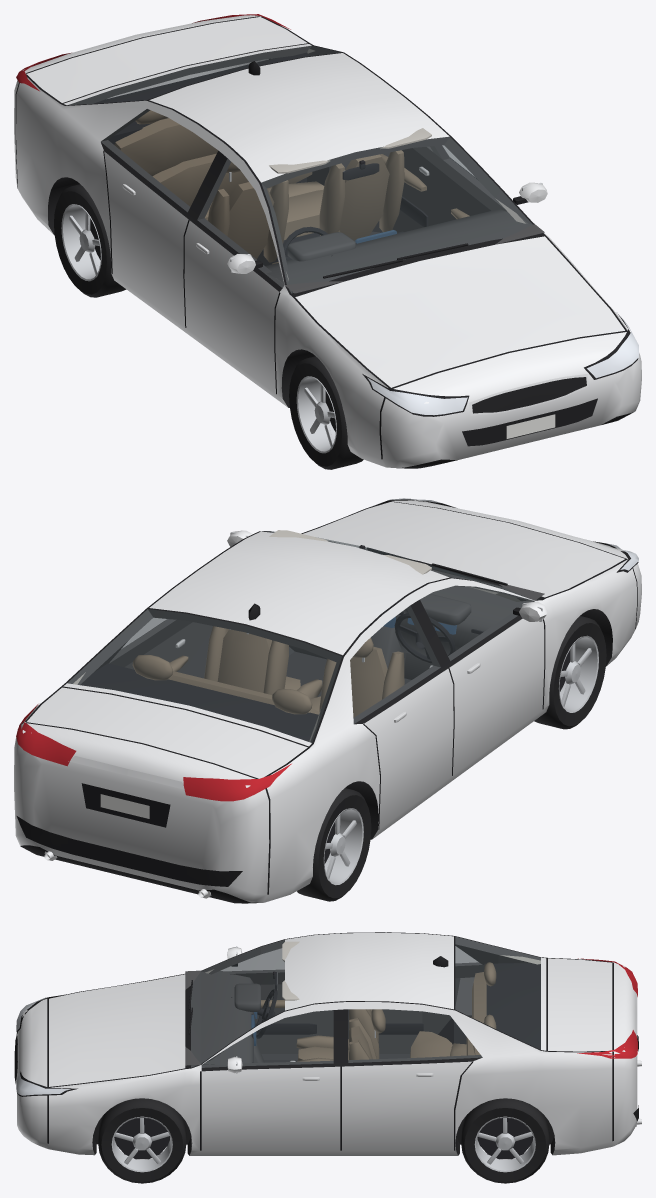
Rendered from Sedan.fbx.
3 renders of one model, top to bottom at view 1: azimuth 30°, elevation 25°; view 2: azimuth 150°, elevation 25°; view 3: azimuth 270°, elevation 25°, orthographic. The views are drawn at different scales.
Parts seen in each view (by area): view 1: Body, Interior, Glass, Parts, Wheel_FR, Wheel_RR; view 2: Body, Glass, Interior, Parts, Wheel_RR, Wheel_FR, SteeringWheel; view 3: Body, Glass, Interior, Wheel_FL, Wheel_RL, Parts, SteeringWheel.
Part boxes in pixels (bbox=[...]): Body: bbox=[14, 15, 641, 468]; Interior: bbox=[68, 45, 544, 293]; Glass: bbox=[69, 46, 532, 293]; Parts: bbox=[16, 14, 638, 446]; Wheel_FR: bbox=[289, 356, 363, 469]; Wheel_RR: bbox=[54, 184, 126, 297]; Body: bbox=[14, 500, 641, 903]; Glass: bbox=[68, 531, 539, 742]; Interior: bbox=[67, 530, 544, 742]; Parts: bbox=[16, 498, 638, 898]; Wheel_RR: bbox=[297, 788, 371, 901]; Wheel_FR: bbox=[534, 616, 606, 729]; SteeringWheel: bbox=[394, 613, 455, 663]; Body: bbox=[17, 932, 637, 1155]; Glass: bbox=[191, 937, 540, 1067]; Interior: bbox=[185, 937, 540, 1146]; Wheel_FL: bbox=[98, 1098, 186, 1183]; Wheel_RL: bbox=[461, 1098, 549, 1183]; Parts: bbox=[14, 946, 641, 1126]; SteeringWheel: bbox=[231, 989, 277, 1038].
Bounding box in the file's own units: 2.14 × 1.5 × 4.76.
